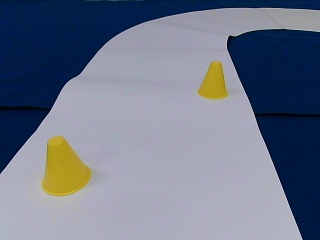cone: (40, 136, 91, 195), (198, 61, 228, 99)
